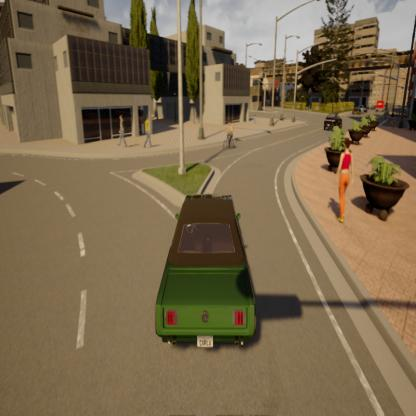Cars: (151, 188, 267, 355), (322, 113, 344, 130)
Pedestrian: (335, 137, 355, 233), (115, 113, 130, 149), (142, 113, 155, 150)
